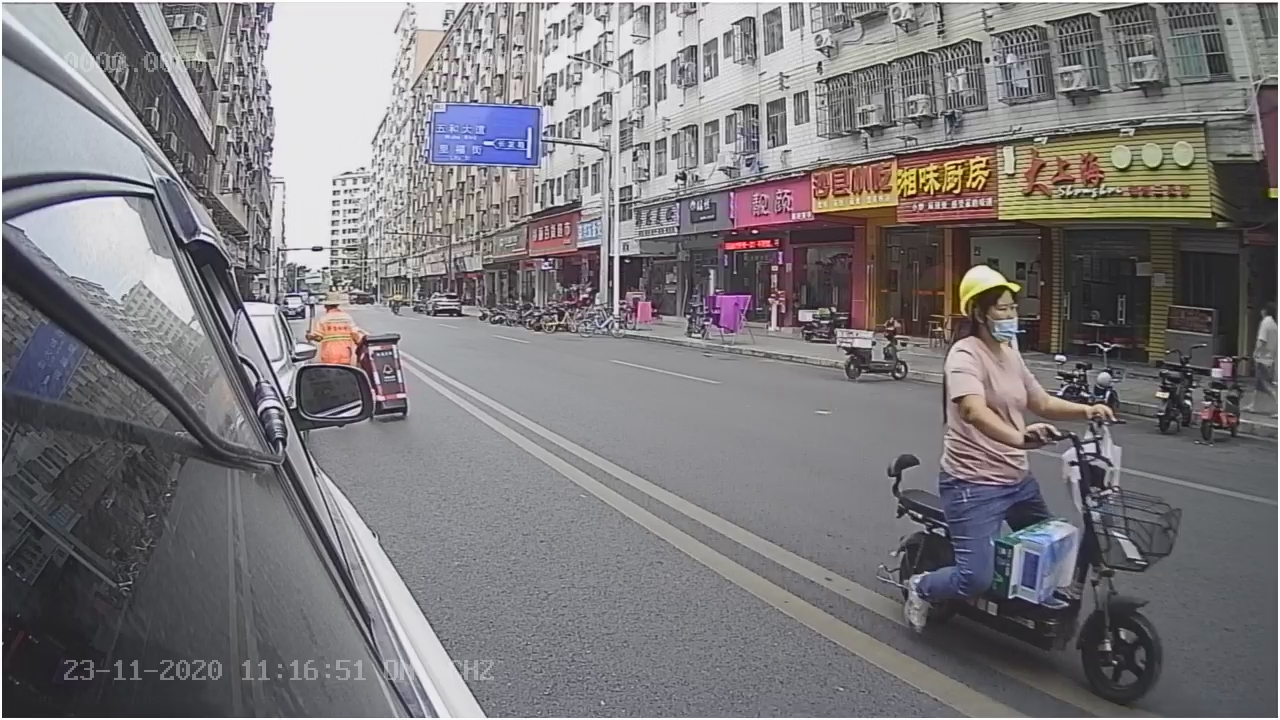person: (938, 263, 1123, 434)
